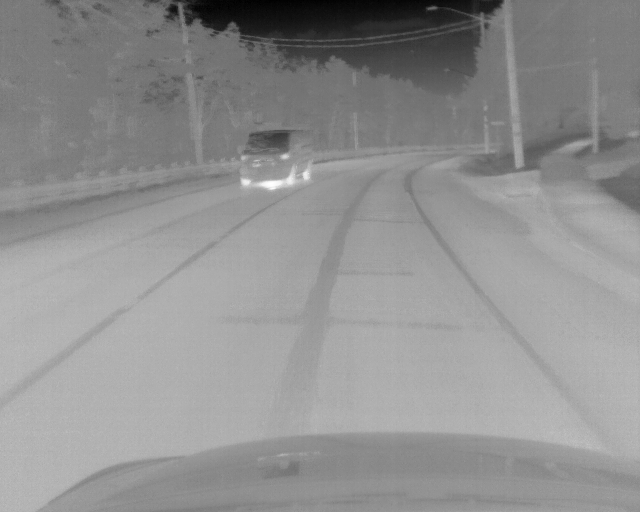car: (238, 128, 313, 190)
